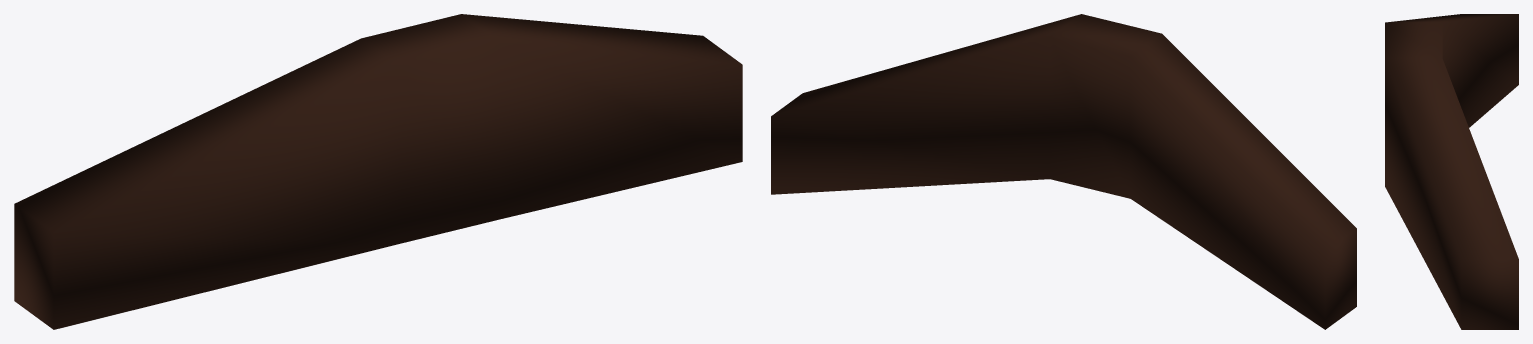
The model's file is mustache.glb.
3 views of the same model, side by side, from view 1: azimuth 30°, elevation 25°; view 2: azimuth 150°, elevation 25°; view 3: azimuth 270°, elevation 25° (orthographic). The views are drawn at different scales.
Visible parts, largest first — view 1: Mustache; view 2: Mustache; view 3: Mustache.
Part boxes in pixels (<box>): Mustache: <box>14,14,742,329</box>; Mustache: <box>771,14,1356,329</box>; Mustache: <box>1385,14,1518,329</box>.
Size of the model in its own units: 0.0795 by 0.0253 by 0.0183.
